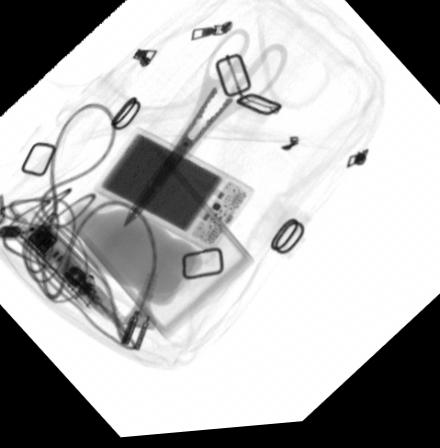Powerbank: (92, 127, 257, 259)
Scissors: (123, 32, 290, 228)
